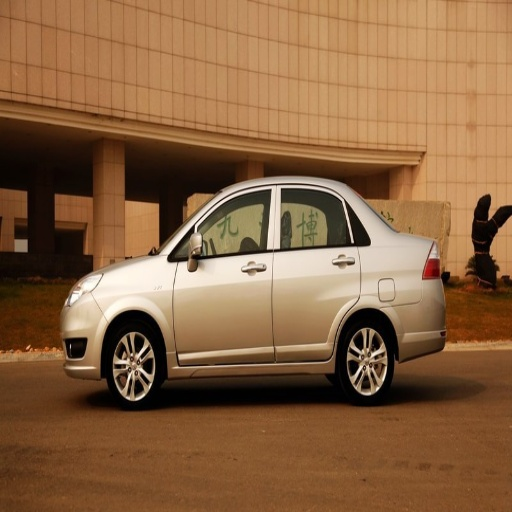back_left_door: (275, 185, 360, 359)
front_left_door: (173, 186, 275, 365)
